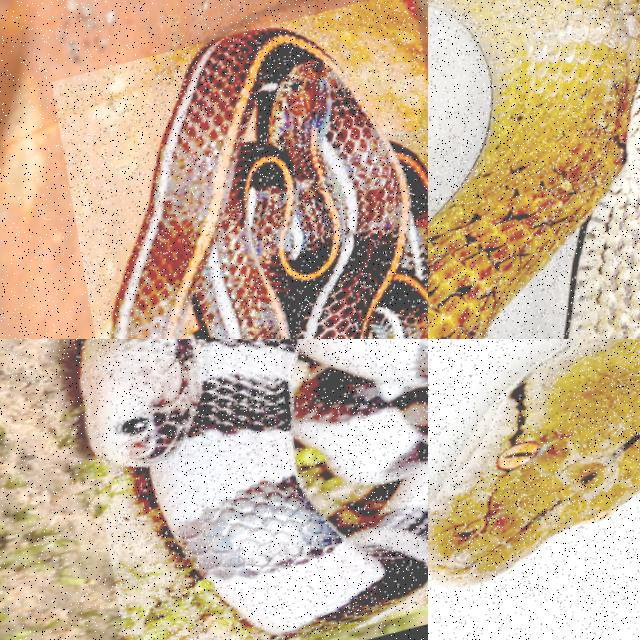Bungarus candidus: (80, 339, 427, 635)
Calliophis intestinalis: (112, 28, 427, 338)
Malayopython reticulatus: (428, 339, 639, 586)
Naja kaouthia: (428, 0, 639, 338)
